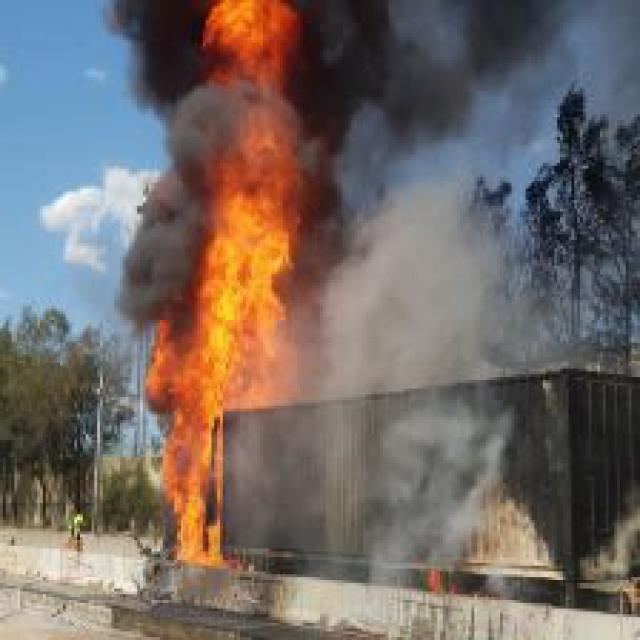fire: (131, 6, 326, 568)
